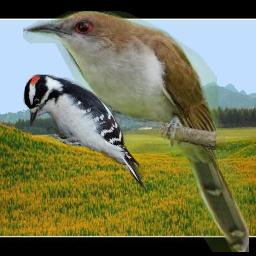Cuckoo: (23, 11, 249, 252)
Woodpecker: (22, 72, 149, 193)
